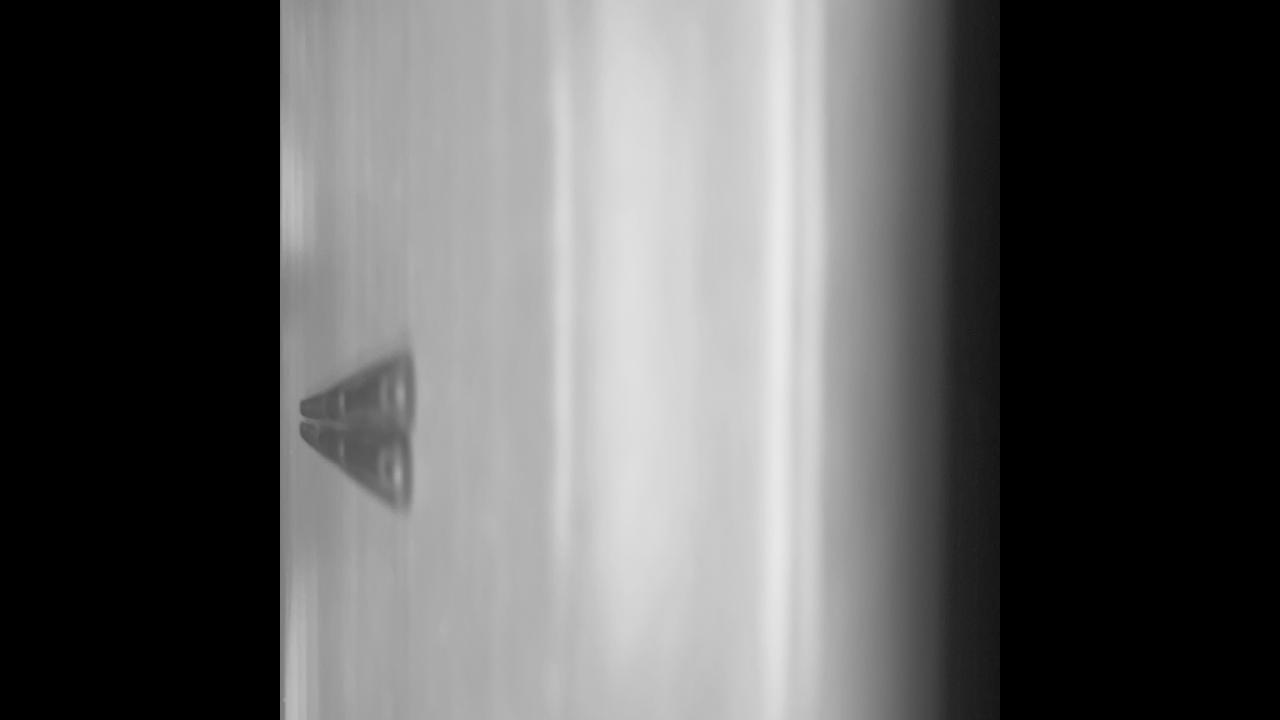chopstick: (299, 356, 405, 514)
